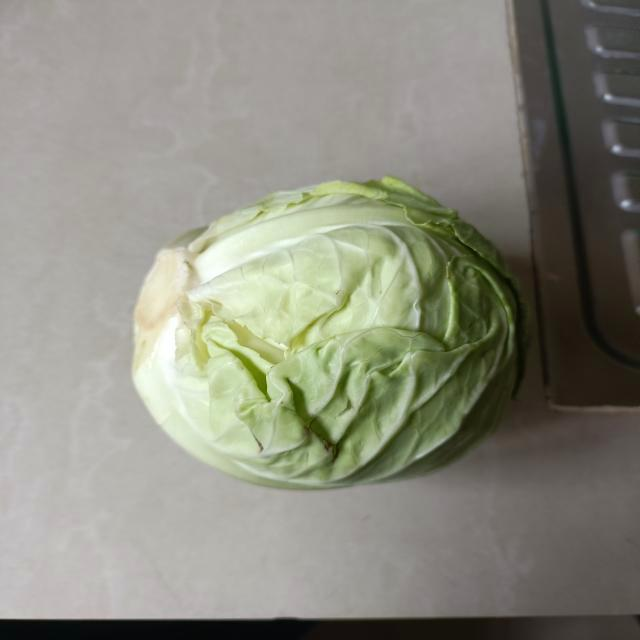cabbage: (131, 177, 526, 491)
